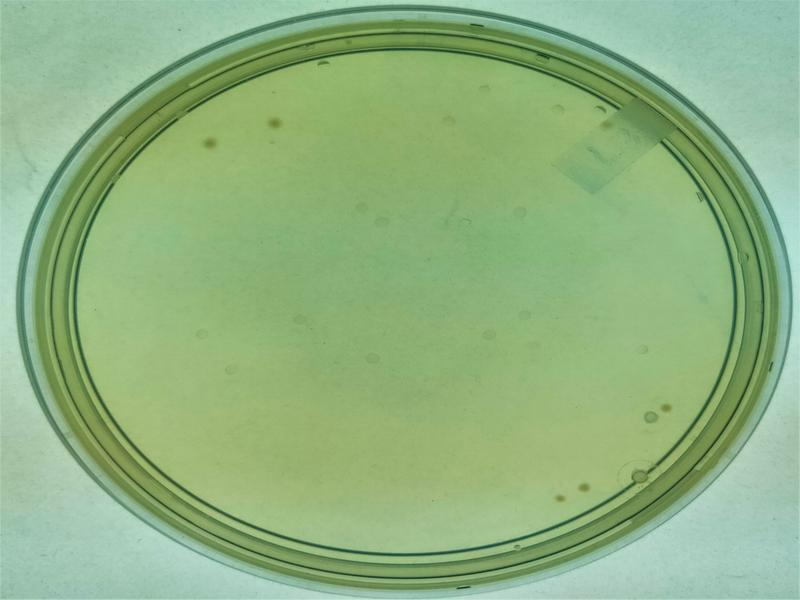colony: (194, 129, 226, 156), (259, 111, 291, 138), (545, 483, 572, 511), (573, 474, 597, 500)
